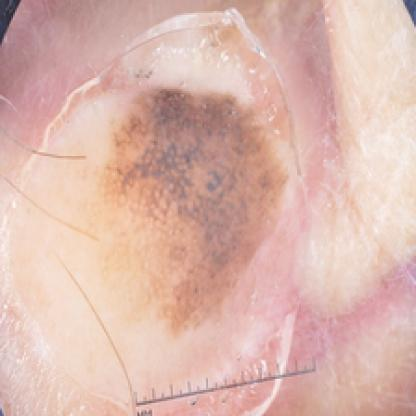malignant: (121, 91, 286, 267)
